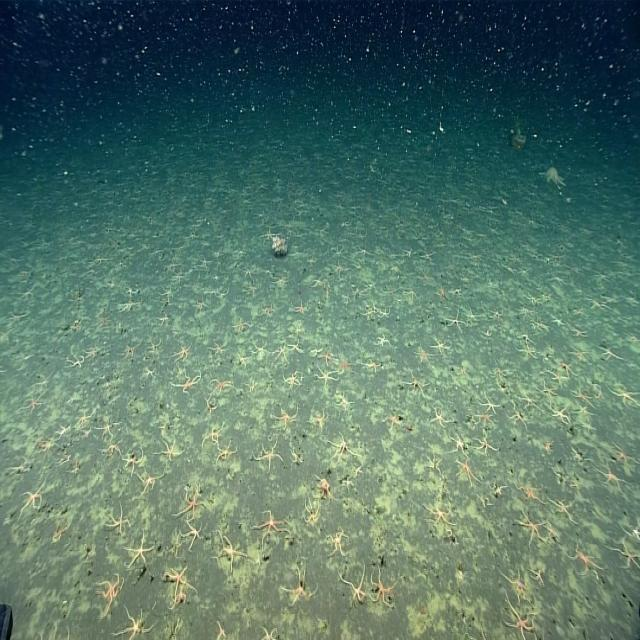brittle-stars: (163, 566, 198, 611), (282, 564, 319, 606), (94, 574, 124, 622), (566, 542, 602, 581), (593, 459, 631, 495), (505, 594, 535, 639), (251, 510, 290, 543), (215, 532, 246, 573), (114, 608, 153, 640), (500, 569, 534, 605), (370, 568, 400, 606), (19, 480, 48, 519), (337, 567, 367, 604), (608, 534, 640, 568), (515, 510, 546, 543), (124, 536, 155, 568), (327, 434, 361, 462), (177, 490, 206, 520), (252, 438, 282, 466), (180, 516, 203, 550), (311, 476, 338, 504), (604, 385, 640, 406), (139, 468, 165, 495), (154, 438, 182, 462), (169, 374, 201, 395), (326, 530, 348, 560), (425, 504, 454, 526), (106, 508, 130, 533), (455, 460, 477, 487), (516, 482, 544, 502), (549, 496, 573, 519), (201, 422, 222, 448), (299, 497, 320, 523), (613, 444, 637, 466), (274, 409, 299, 430), (122, 450, 144, 473), (478, 394, 501, 416), (404, 375, 429, 395), (431, 406, 451, 431), (572, 387, 594, 409), (216, 441, 236, 465), (508, 404, 527, 429), (22, 392, 43, 414), (7, 458, 29, 479), (50, 520, 70, 543), (474, 431, 494, 454), (314, 368, 336, 388), (425, 450, 443, 474), (585, 296, 612, 312), (517, 394, 542, 411), (414, 345, 434, 366), (308, 410, 329, 430), (570, 446, 591, 466), (335, 390, 354, 412), (172, 342, 190, 364), (598, 344, 622, 360), (33, 374, 53, 393), (66, 290, 85, 310), (210, 378, 235, 393), (445, 314, 465, 331), (450, 435, 466, 456), (568, 346, 592, 360), (550, 468, 570, 484), (98, 424, 120, 438), (116, 345, 138, 359), (250, 343, 268, 360), (542, 522, 560, 539), (552, 408, 570, 425), (272, 343, 288, 362), (546, 369, 562, 388), (490, 482, 509, 498), (431, 339, 452, 353), (76, 411, 92, 429), (579, 419, 597, 435), (486, 306, 504, 322), (327, 261, 349, 274), (561, 363, 580, 378), (207, 342, 227, 356), (259, 230, 280, 243), (490, 366, 507, 382), (575, 404, 594, 418), (334, 361, 356, 373), (516, 345, 538, 357), (514, 307, 534, 320), (543, 382, 559, 398), (104, 443, 122, 457), (56, 424, 70, 442), (160, 286, 173, 305), (284, 371, 300, 386), (37, 439, 57, 451), (230, 319, 247, 333), (290, 449, 304, 466), (570, 325, 588, 338), (234, 355, 252, 368), (383, 413, 398, 428), (376, 334, 391, 349), (119, 302, 139, 313), (6, 314, 26, 325), (68, 357, 86, 369), (363, 361, 381, 373), (258, 628, 276, 640), (215, 622, 227, 640), (465, 312, 483, 324), (524, 292, 542, 304), (203, 398, 218, 412), (331, 244, 346, 258), (238, 266, 257, 277), (84, 346, 100, 359), (322, 350, 335, 366), (533, 319, 549, 332), (400, 247, 416, 260), (287, 339, 301, 353), (530, 570, 544, 584), (518, 334, 534, 346), (70, 317, 82, 333), (382, 286, 401, 296), (309, 346, 323, 359), (147, 341, 161, 354), (377, 306, 391, 319), (357, 244, 370, 258), (199, 256, 212, 270), (90, 258, 110, 267), (95, 317, 108, 330), (0, 330, 13, 343), (418, 270, 431, 283), (362, 310, 376, 322), (261, 304, 275, 316), (592, 385, 603, 400), (56, 454, 71, 465), (164, 263, 180, 273), (194, 297, 206, 310), (291, 247, 304, 259), (551, 315, 564, 327), (81, 428, 92, 442), (469, 252, 483, 263), (270, 278, 287, 287), (307, 254, 317, 269), (420, 250, 435, 260), (353, 230, 368, 240), (247, 376, 256, 392), (406, 288, 418, 300), (312, 276, 325, 287), (573, 308, 587, 318), (551, 276, 565, 286), (450, 287, 462, 298), (243, 285, 256, 295), (364, 280, 377, 290), (296, 304, 307, 315), (158, 315, 170, 325), (126, 287, 138, 297), (144, 368, 156, 378), (544, 441, 553, 454), (342, 292, 350, 306), (344, 231, 356, 240), (170, 275, 183, 283), (69, 466, 79, 475), (439, 285, 445, 298)
